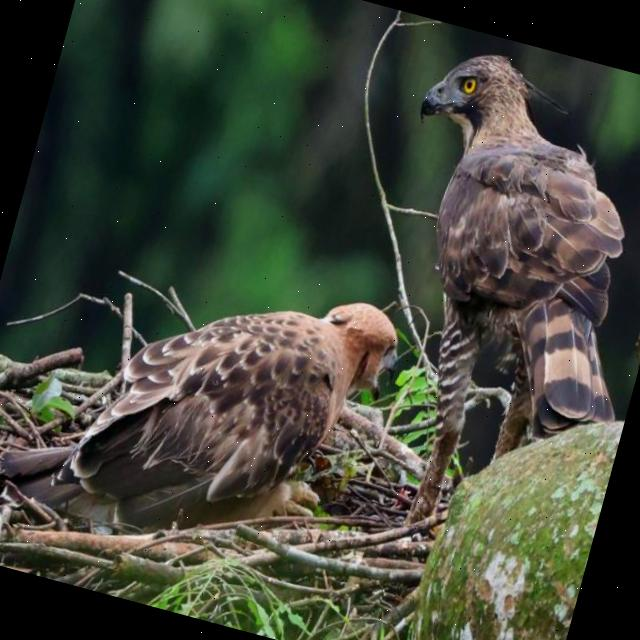Elang Jawa: (304, 19, 640, 575), (0, 182, 431, 610)
